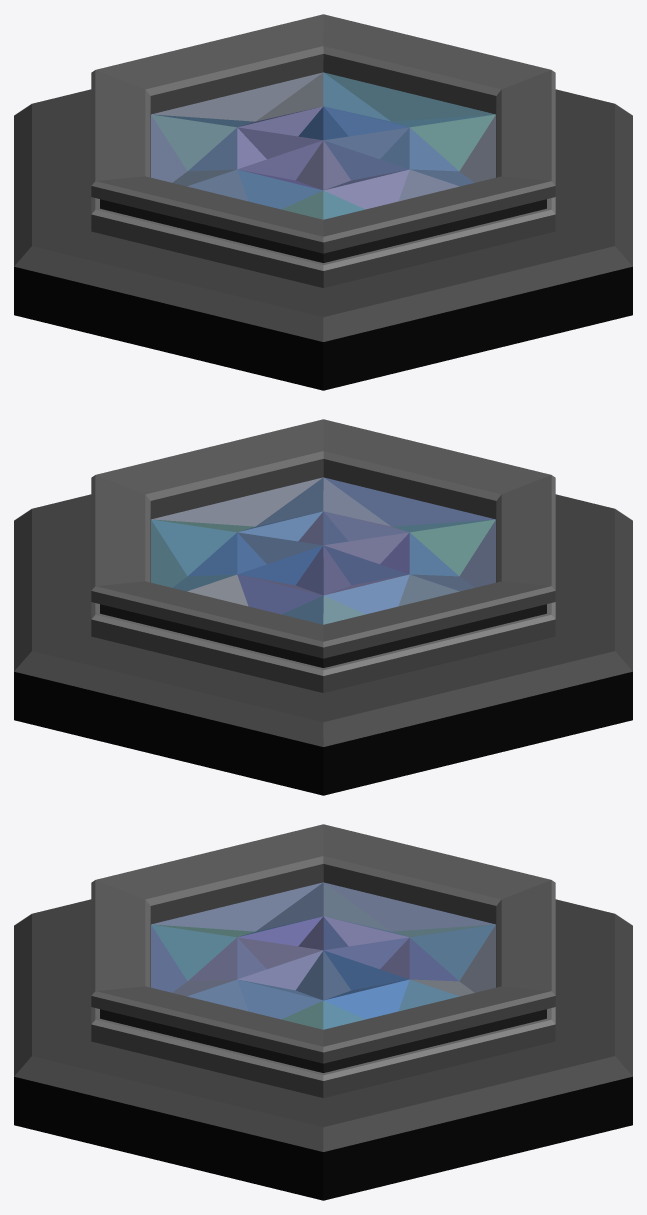
The model's file is hex_waterTile.fbx.
3 renders of one model, top to bottom at view 1: azimuth 30°, elevation 25°; view 2: azimuth 150°, elevation 25°; view 3: azimuth 270°, elevation 25°, orthographic.
Visible parts, largest first — view 1: hex_waterTile; view 2: hex_waterTile; view 3: hex_waterTile.
Part boxes in pixels (bbox=[...]): hex_waterTile: bbox=[14, 14, 632, 390]; hex_waterTile: bbox=[14, 419, 632, 795]; hex_waterTile: bbox=[14, 824, 632, 1200].
Size of the model in its own units: 2 by 0.3529 by 1.73.
